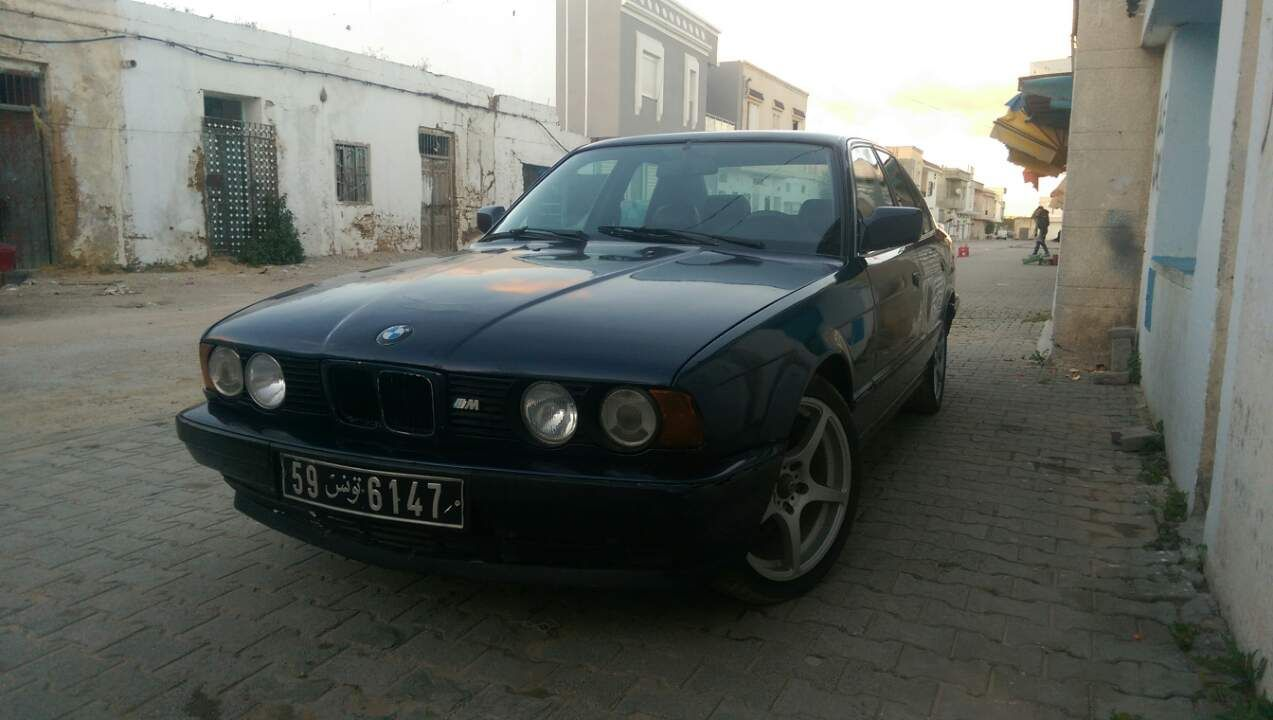LP: (280, 449, 465, 528)
